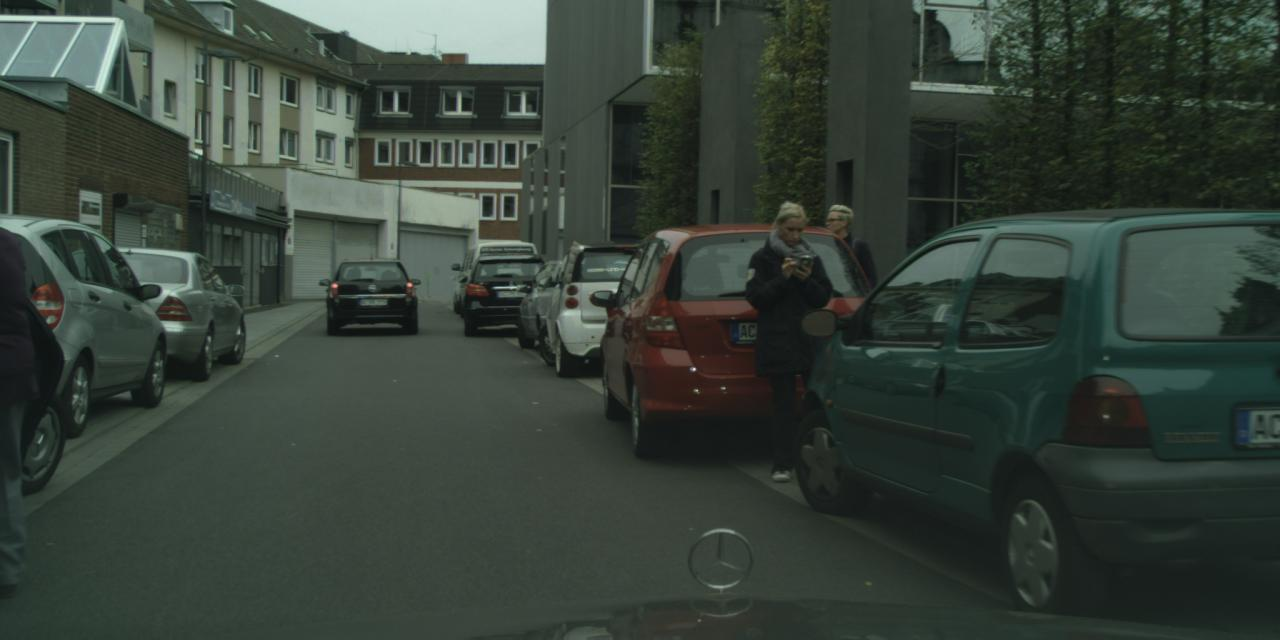ped: (743, 202, 854, 474), (798, 204, 888, 420)
